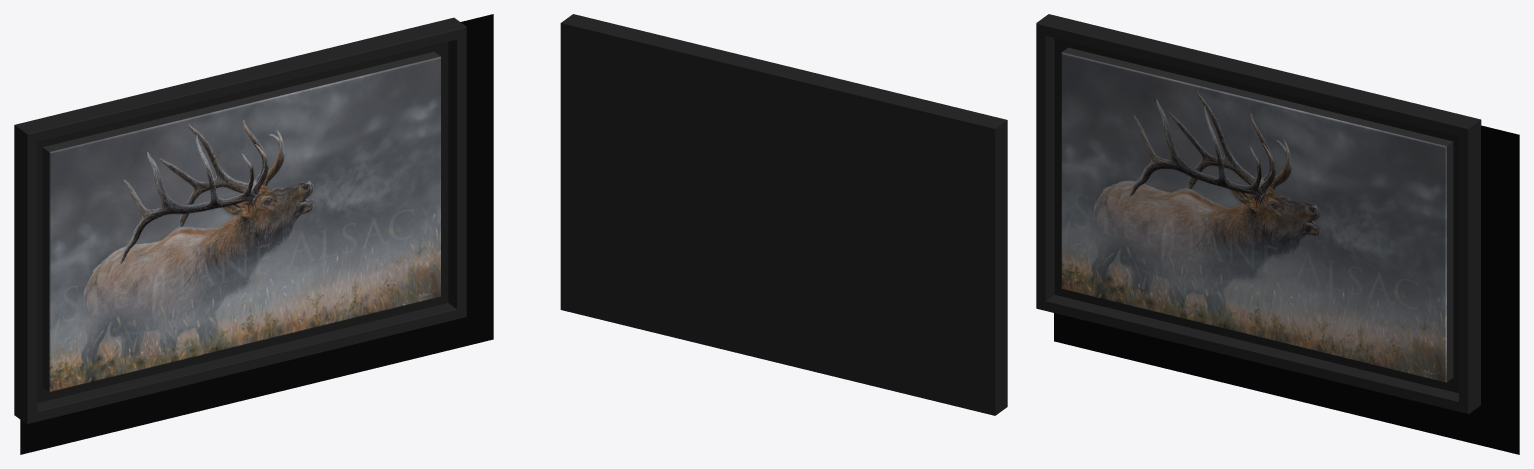
The model's file is tableau-wapiti-classique-2125764c.glb.
3 views of the same model, side by side, from view 1: azimuth 30°, elevation 25°; view 2: azimuth 150°, elevation 25°; view 3: azimuth 330°, elevation 25° (orthographic).
Parts seen in each view (by area): view 1: Painting; view 2: Painting; view 3: Painting.
Boxes of the visible parts, box(x1,y1,x2,y2) form: Painting: box(14, 14, 493, 454); Painting: box(560, 14, 1007, 415); Painting: box(1036, 14, 1519, 454).
Bounding box in the file's own units: 0.856 × 0.566 × 0.04.
Materials: 5 (3 with a texture image).
